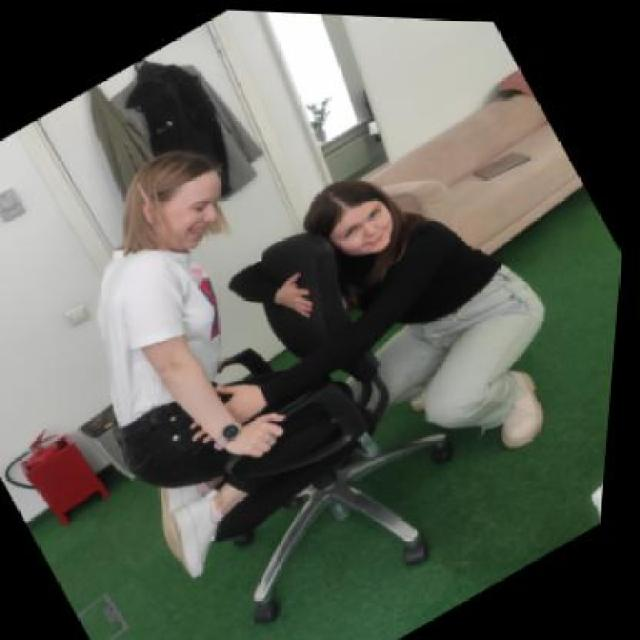chair: (87, 196, 536, 638)
